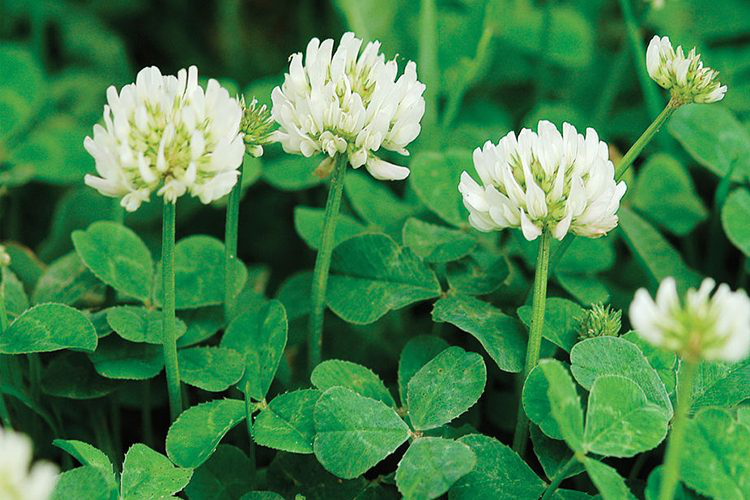clover: (321, 230, 529, 377), (311, 344, 487, 499), (70, 220, 249, 347), (538, 358, 669, 500)
clover blossom white: (264, 28, 427, 182), (81, 63, 245, 215), (458, 118, 629, 243), (645, 31, 727, 106)
